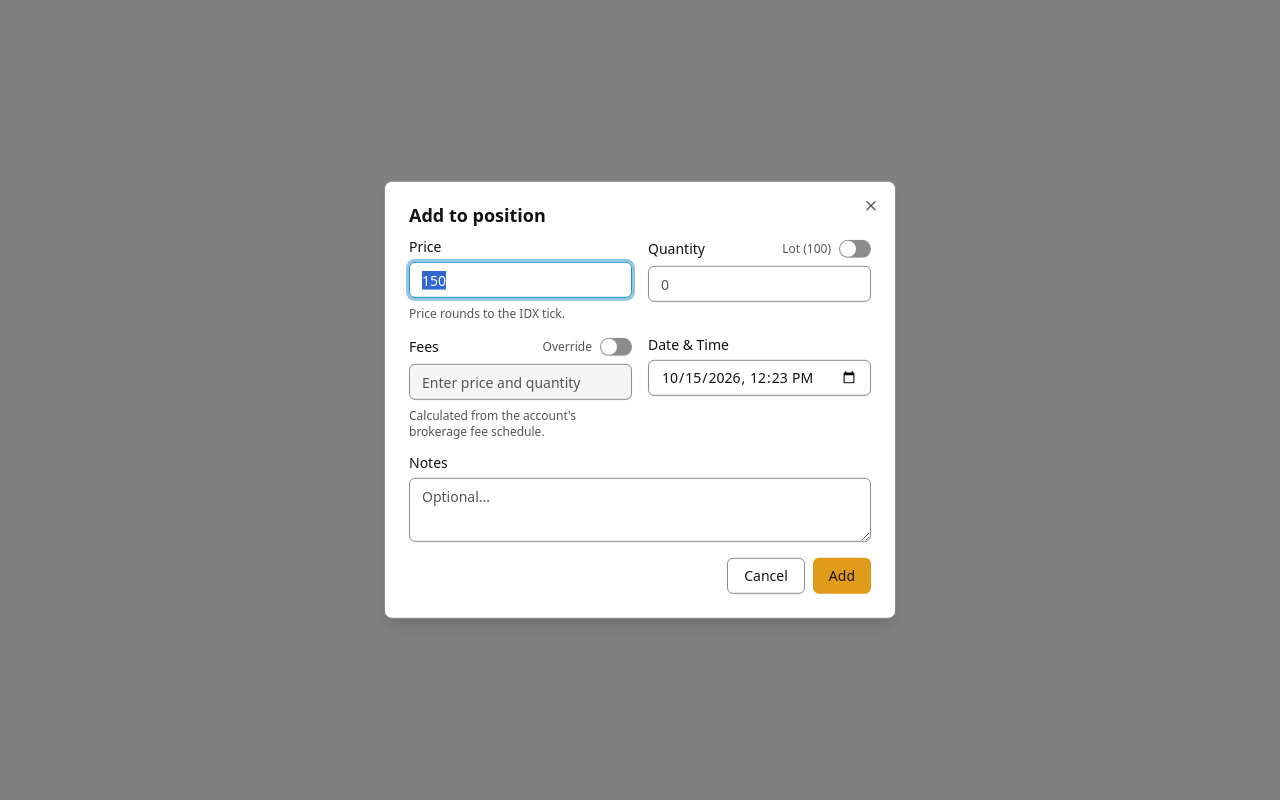
Scenario: FillDialog — mode IDX (lot & tick, Fase 2b-2) › membulatkan harga ke tick IDX saat blur
Replace the text in the field labelled "Price" with "503": (520, 280) 409,262 -> 632,298
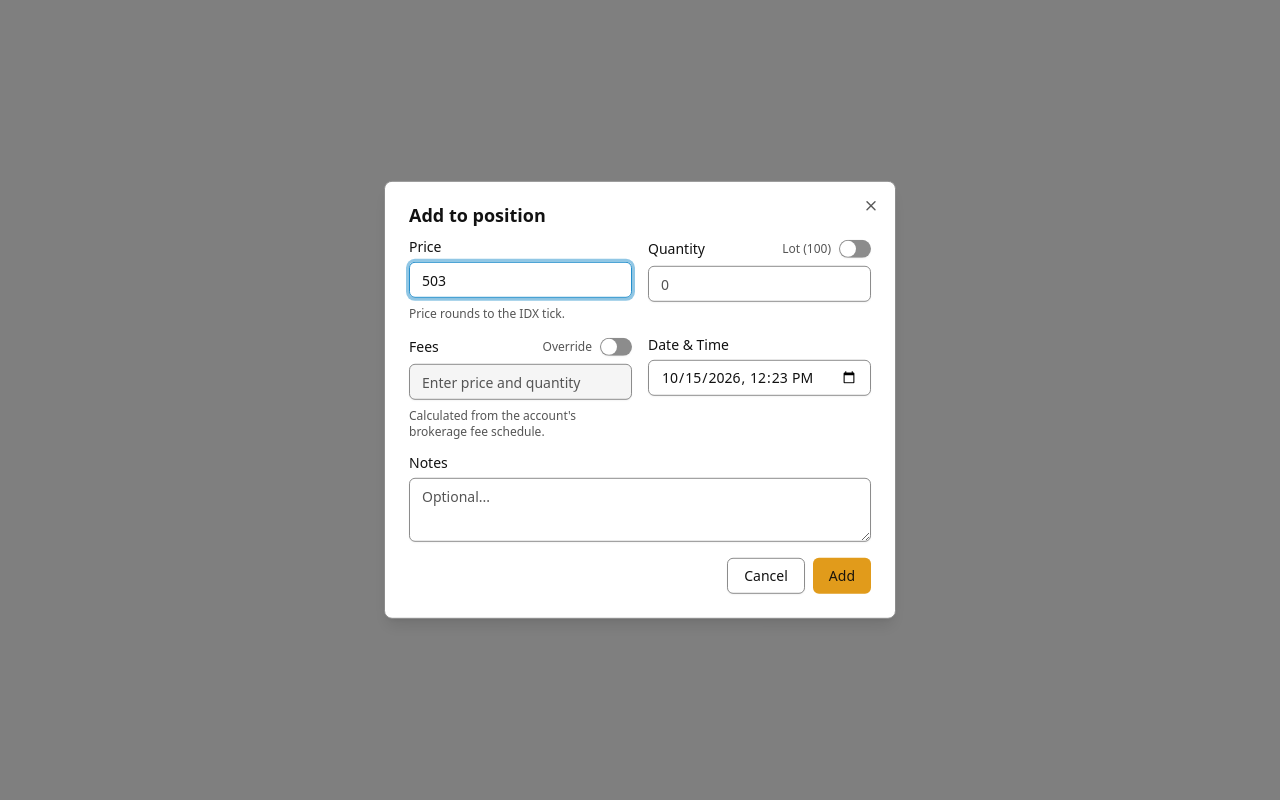
Leave the field labelled "Price", box 409,262 -> 632,298
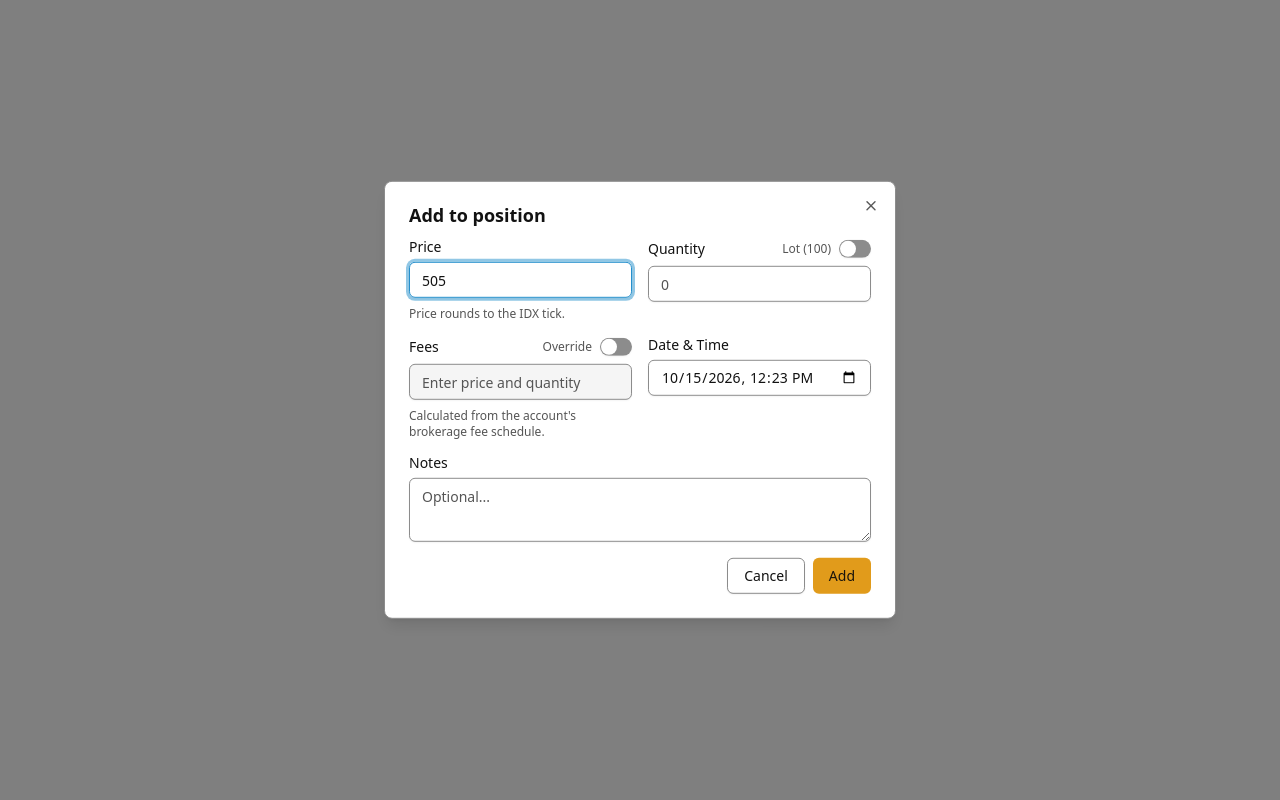
Now the field labelled "Price" holds "505", box 409,262 -> 632,298
